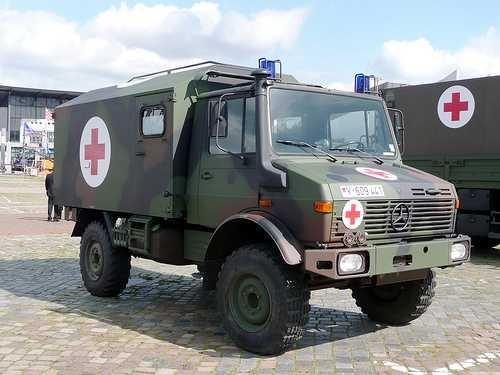car: (51, 57, 472, 356)
